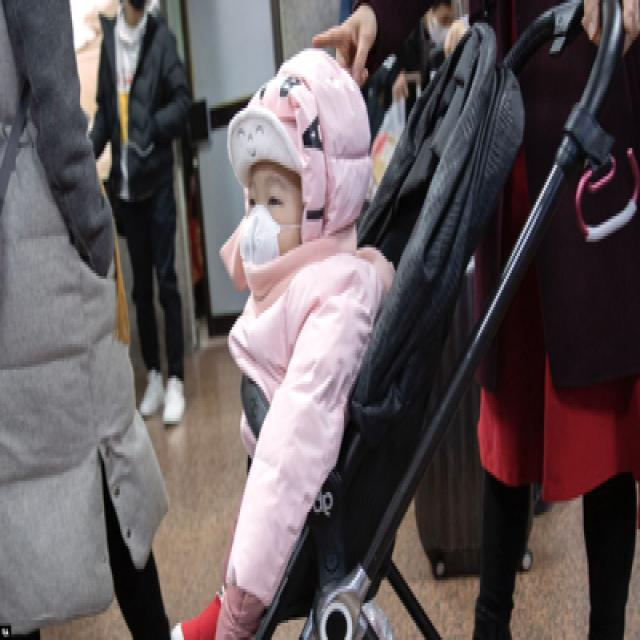mask: (240, 159, 302, 299)
